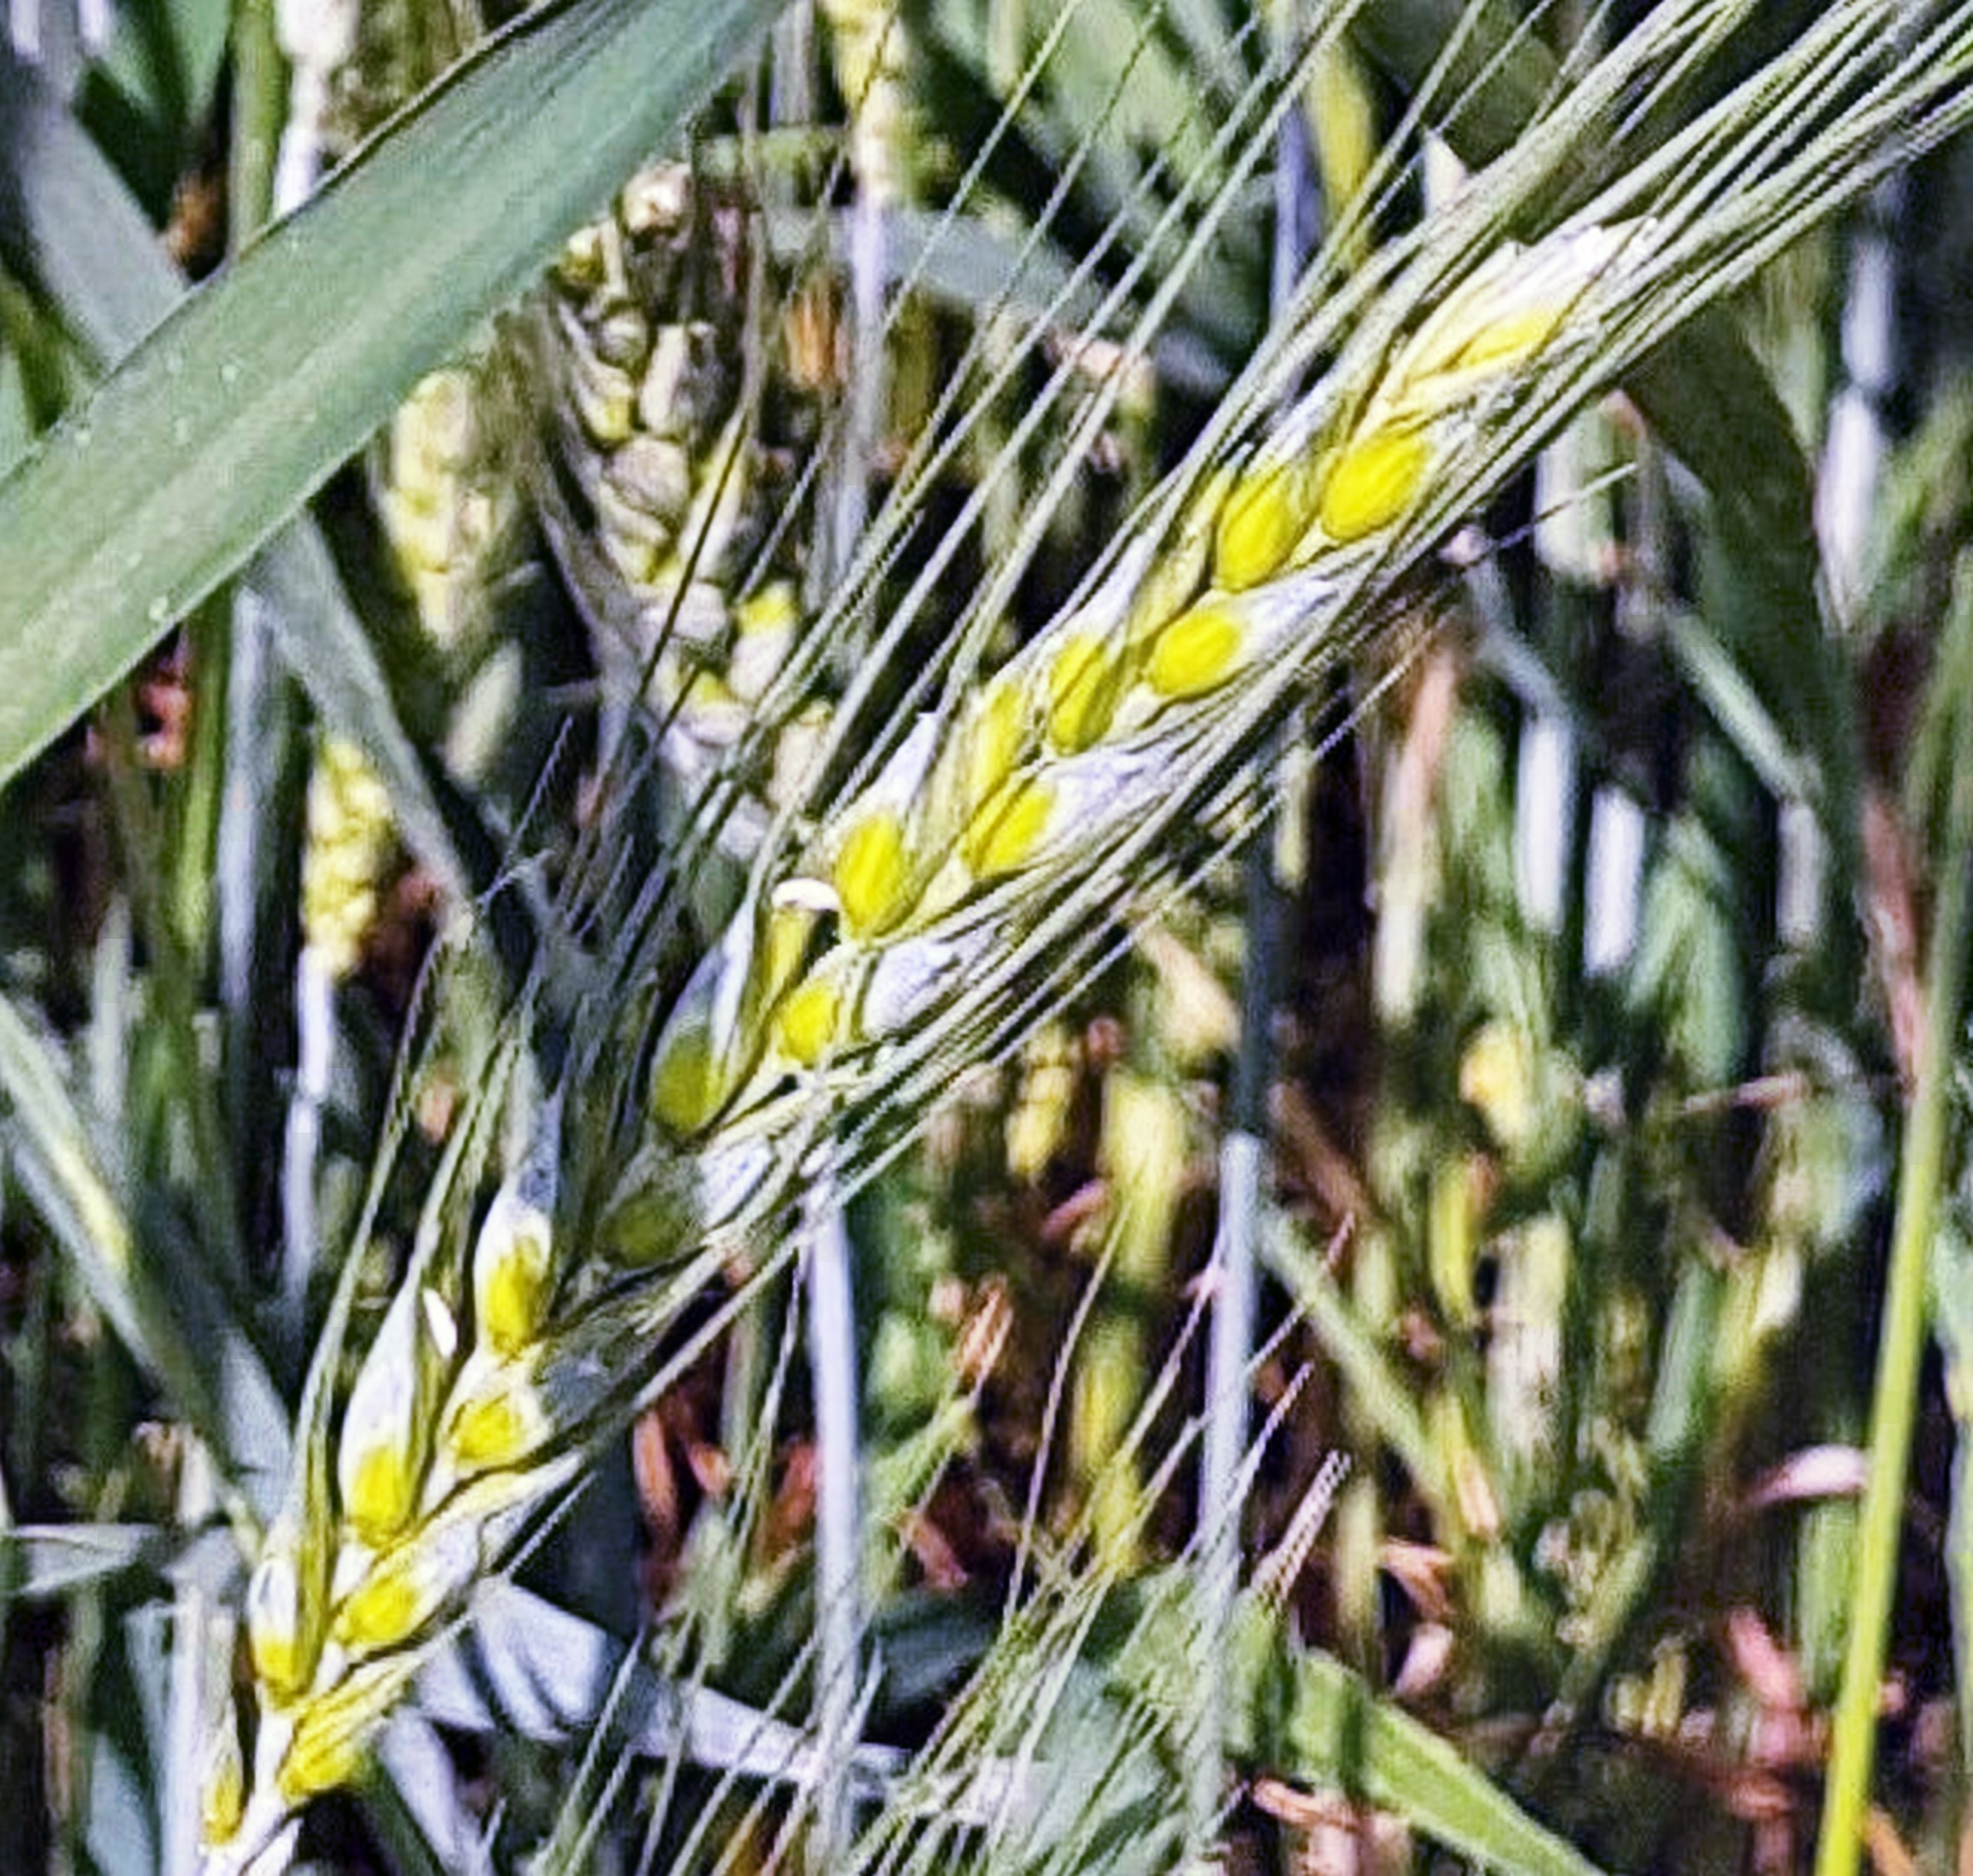Healthy Wheat: (229, 250, 1577, 1756)
